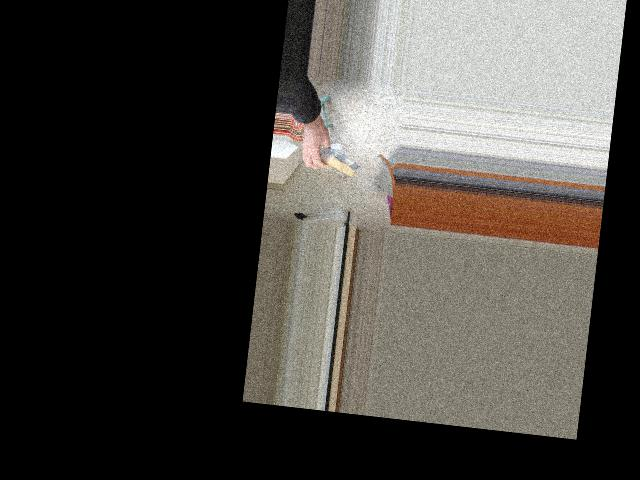cheese: (307, 140, 364, 182)
